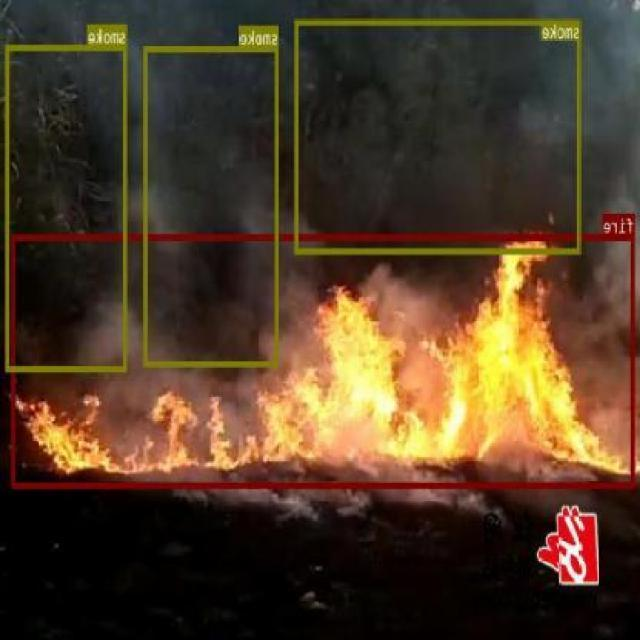Fire: (12, 233, 636, 487)
Smoke: (296, 18, 581, 254), (146, 46, 280, 366), (6, 44, 128, 372)
